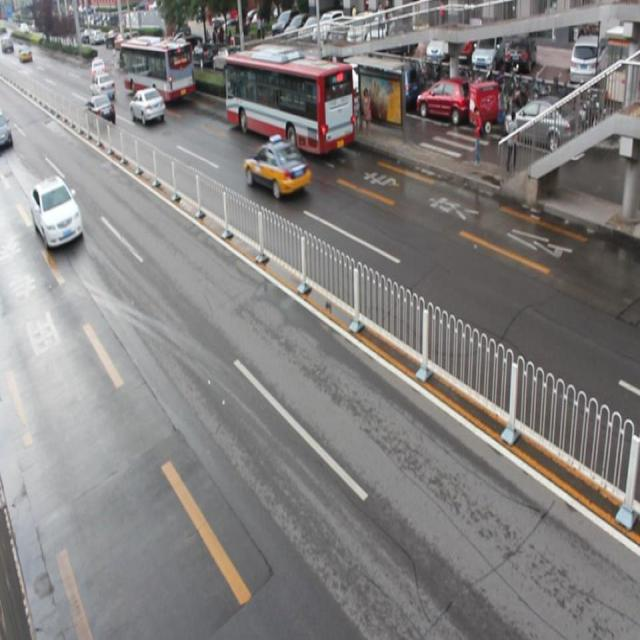car: (243, 140, 311, 198), (30, 175, 83, 248), (130, 86, 164, 123)
van: (224, 52, 354, 152), (121, 36, 194, 100)
